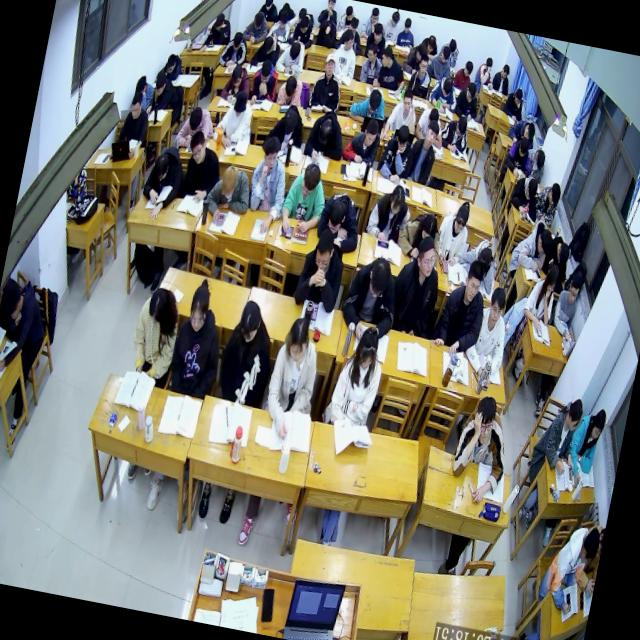bow: (138, 140, 188, 222), (200, 156, 256, 228), (314, 188, 367, 256), (394, 206, 445, 268), (300, 106, 350, 168), (260, 100, 310, 159), (455, 232, 502, 294), (172, 102, 218, 153), (539, 228, 574, 282), (220, 62, 256, 108), (274, 37, 308, 78), (154, 48, 186, 84), (242, 7, 272, 45), (506, 116, 538, 150), (276, 72, 306, 108), (417, 27, 443, 59), (314, 16, 340, 48), (278, 1, 298, 26)
down: (183, 276, 216, 339), (282, 313, 313, 370), (236, 293, 266, 346), (353, 325, 382, 374), (365, 256, 393, 300), (1, 280, 26, 326), (299, 156, 325, 200), (312, 230, 338, 272), (578, 526, 602, 570), (146, 286, 170, 327), (324, 195, 348, 232), (564, 396, 586, 433), (218, 164, 240, 200), (453, 195, 473, 233), (362, 114, 382, 148), (387, 184, 408, 216), (150, 153, 171, 185), (420, 210, 440, 241), (316, 114, 336, 145), (393, 120, 412, 152), (542, 262, 559, 296), (590, 408, 608, 440), (536, 224, 554, 254), (546, 178, 564, 208), (367, 83, 385, 113), (231, 90, 249, 119), (258, 54, 275, 84), (281, 108, 299, 136), (153, 66, 169, 97), (476, 245, 494, 272), (187, 105, 205, 132), (229, 64, 247, 90), (554, 240, 572, 262), (230, 26, 244, 52), (134, 73, 149, 97), (212, 7, 227, 31), (454, 112, 470, 134), (164, 52, 178, 76), (526, 174, 540, 197), (283, 74, 298, 95), (371, 22, 385, 44), (440, 76, 454, 98), (426, 106, 440, 128), (288, 40, 302, 62), (298, 12, 312, 34), (252, 8, 266, 30), (534, 149, 547, 172), (464, 82, 478, 103), (261, 35, 275, 55), (278, 10, 290, 33), (518, 134, 531, 155), (512, 85, 525, 106), (346, 16, 359, 36), (426, 34, 438, 54), (402, 14, 414, 34), (463, 58, 475, 78), (416, 40, 428, 60), (439, 46, 452, 64), (370, 7, 380, 26), (500, 63, 511, 80), (344, 4, 355, 20), (319, 16, 331, 30), (448, 39, 458, 54), (262, 0, 274, 12)
lookup: (470, 394, 499, 447), (412, 231, 440, 278), (461, 258, 485, 302), (258, 130, 283, 172), (186, 126, 209, 164), (487, 284, 508, 322), (566, 271, 583, 307), (128, 89, 146, 123), (422, 120, 442, 148), (400, 88, 415, 115), (322, 52, 338, 77), (416, 54, 429, 76), (524, 118, 538, 138), (484, 54, 494, 72), (326, 0, 337, 9)
sit: (258, 310, 330, 452), (444, 391, 516, 509), (212, 292, 284, 410), (166, 276, 234, 398), (322, 321, 392, 432), (123, 278, 188, 390), (358, 222, 422, 332), (535, 517, 604, 618), (429, 255, 493, 362), (338, 251, 406, 346), (241, 133, 296, 238), (0, 276, 55, 380), (462, 283, 517, 382), (292, 222, 350, 312), (528, 390, 586, 478), (277, 157, 333, 240), (178, 124, 229, 205), (564, 403, 610, 488), (364, 180, 416, 248), (210, 86, 258, 153), (433, 192, 475, 264), (400, 112, 442, 184), (376, 118, 420, 184), (521, 257, 561, 329), (114, 88, 154, 160), (508, 216, 556, 274), (379, 85, 423, 148), (307, 48, 349, 113), (550, 270, 586, 344), (341, 114, 385, 170), (371, 41, 408, 96), (246, 55, 282, 109), (506, 170, 544, 220), (348, 83, 390, 127), (328, 26, 362, 78), (146, 70, 182, 119), (531, 178, 564, 229), (413, 102, 449, 148), (502, 134, 536, 182), (405, 50, 436, 99), (426, 74, 461, 116), (218, 25, 251, 69), (438, 110, 473, 150), (358, 40, 387, 88), (249, 32, 283, 72), (454, 78, 484, 122), (336, 15, 367, 57), (129, 72, 159, 115), (288, 8, 319, 48), (362, 19, 390, 63), (401, 38, 432, 76), (427, 43, 457, 82), (523, 142, 549, 182), (358, 5, 386, 42), (266, 6, 294, 42), (394, 13, 420, 50), (490, 56, 515, 94), (474, 52, 498, 90), (378, 8, 402, 46), (436, 35, 462, 69), (315, 0, 343, 31), (452, 57, 476, 92), (337, 4, 363, 36), (257, 0, 283, 22), (516, 198, 532, 220)
